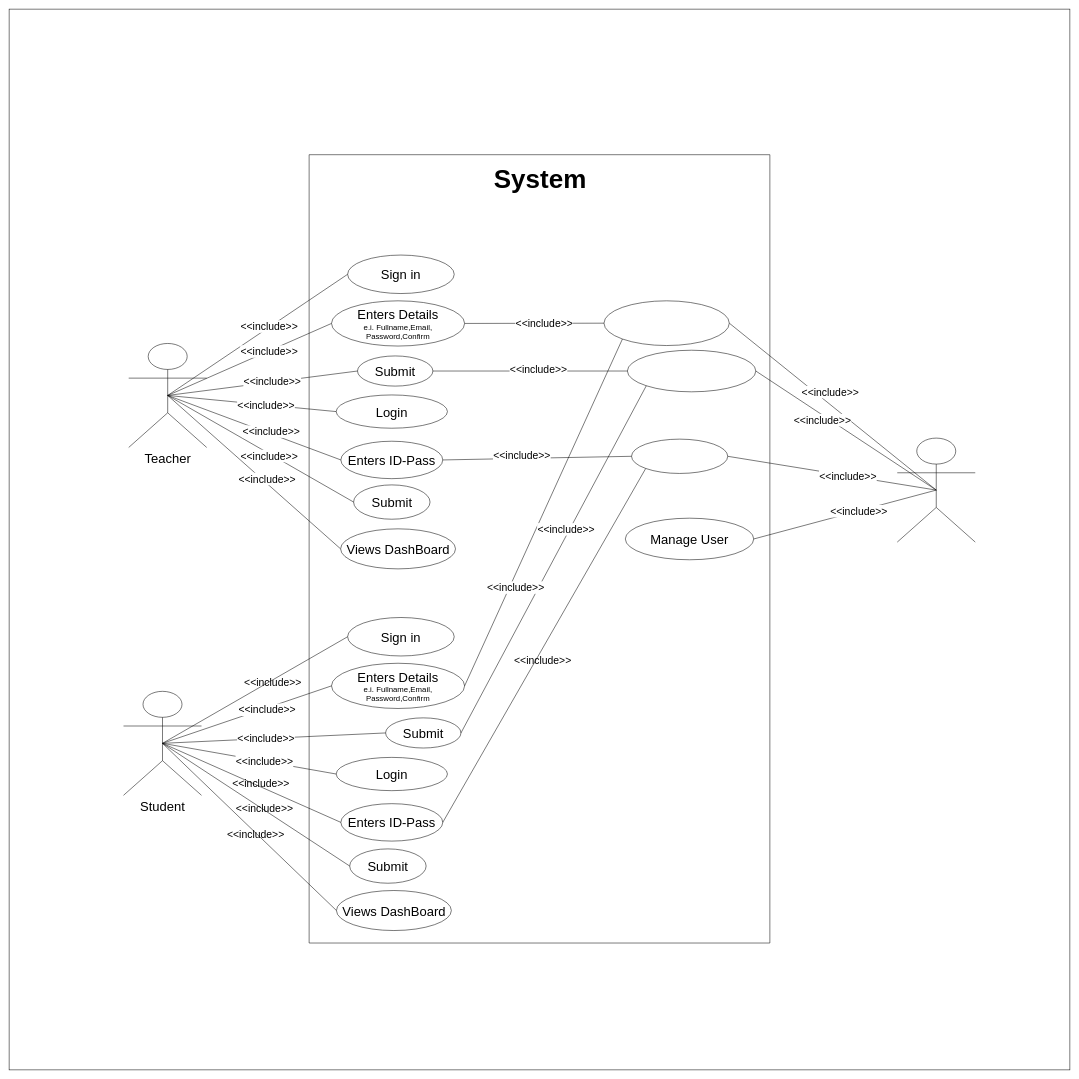
Image size: 1079x1079. Some labels were removed from this diagram. The centre of each missing label's shape, as x and y in pixels:
Add New User: (x=691, y=371)
Admin: (x=936, y=490)
Validating Details: (x=666, y=323)
Verify User: (x=679, y=456)
